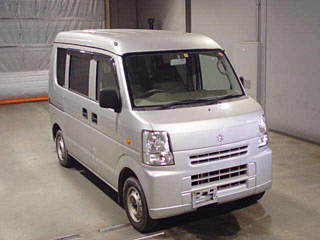van: (49, 28, 274, 233)
